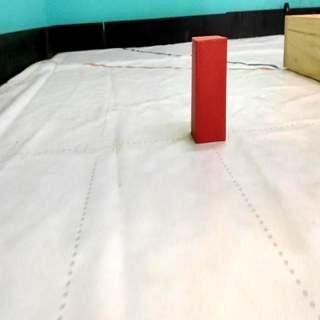redbox: (189, 34, 227, 144)
